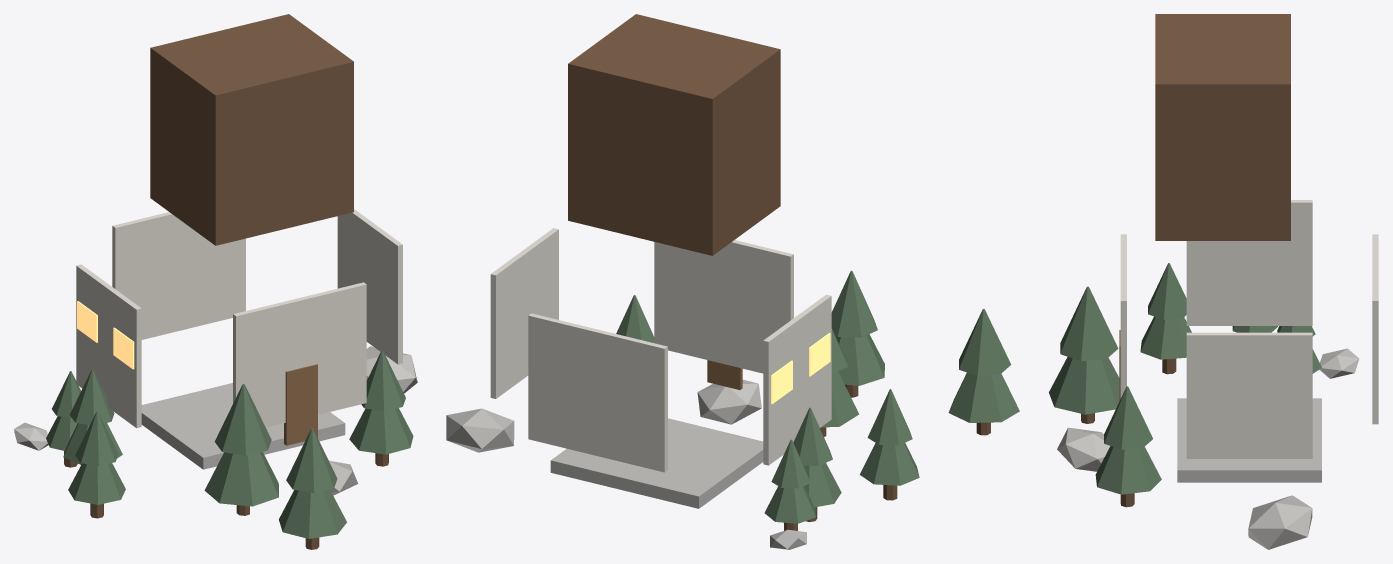
Rendered from maison_001_v1.glb.
3 views of the same model, side by side, from view 1: azimuth 30°, elevation 25°; view 2: azimuth 150°, elevation 25°; view 3: azimuth 270°, elevation 25° (orthographic). The views are drawn at different scales.
Parts seen in each view (by area): view 1: maison; view 2: maison; view 3: maison.
Boxes of the visible parts, <box> form: maison: <box>14,14,417,549</box>; maison: <box>446,14,919,549</box>; maison: <box>948,14,1378,549</box>.
Bounding box in the file's own units: 4.54 × 4.38 × 4.1.
